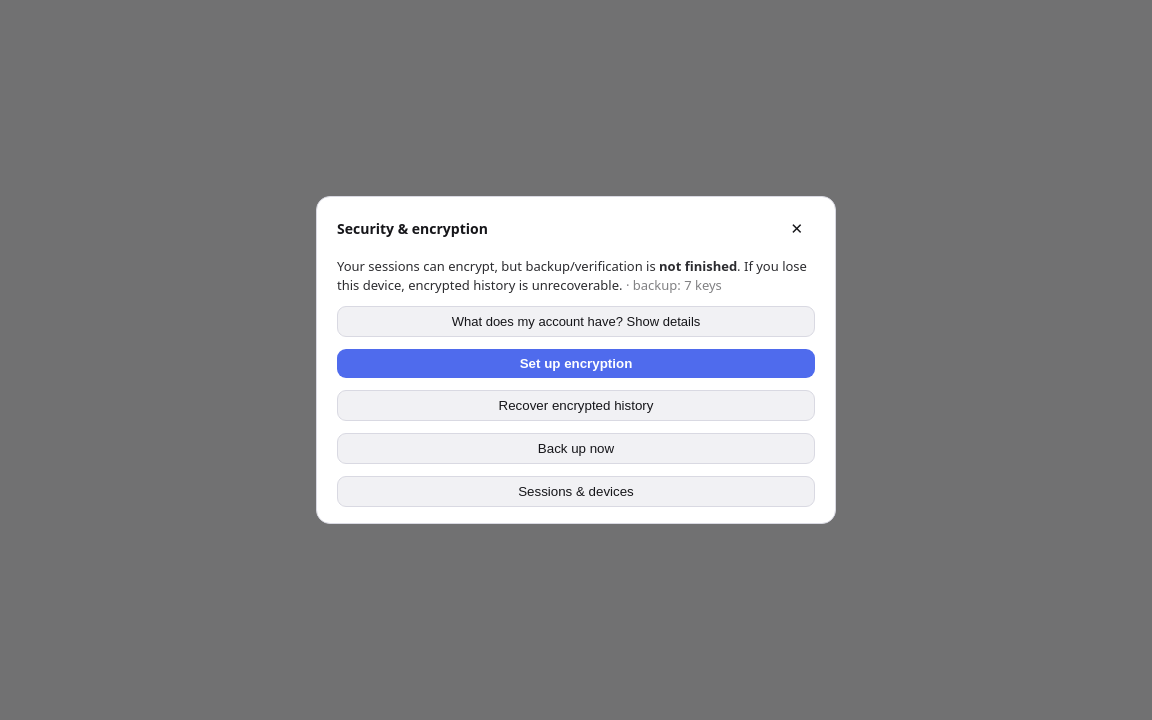
W5a SecuritySheet › sessions list: verified tags, verify button drives SAS to done
Click the button with test id "start-sessions". click: point(576, 492)
box: [337,476,815,507]
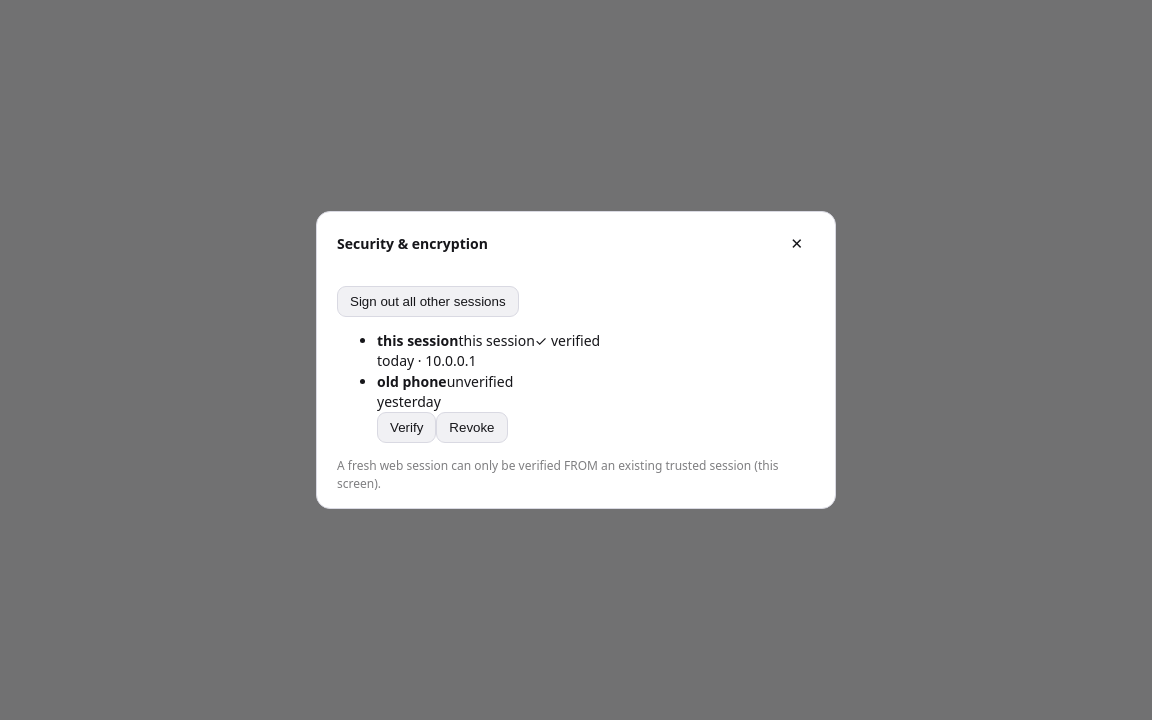
Expected: the list item with test id "session-OLD" shows "unverified", [447,372,513,391]
Expected: the list item with test id "session-CUR" shows "✓ verified", [535,331,600,350]
Click the button with test id "verify-OLD". click: point(407, 428)
box: [377,412,436,443]
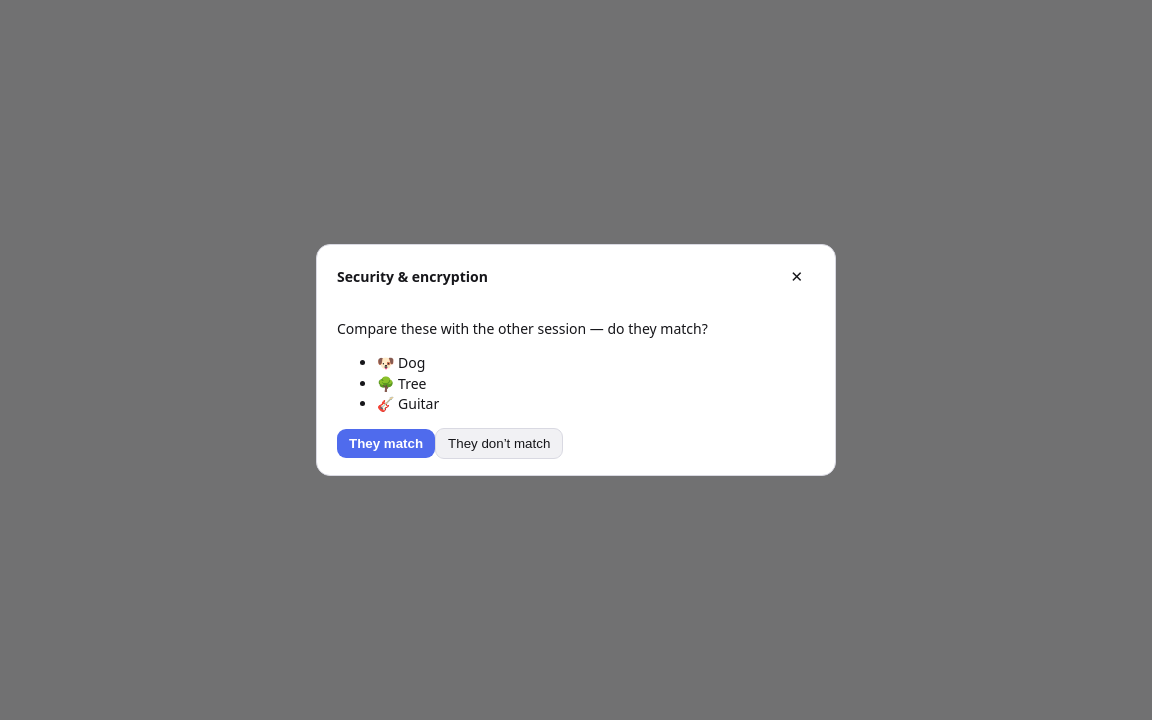
Expected: the list with test id "sas-entries" is shown, [377,353,439,413]
Expected: the number of list items is 3, [377,353,425,372]; [377,374,426,392]; [377,394,439,413]
Click the button with test id "sas-match". click: point(386, 444)
box: [337,429,435,458]
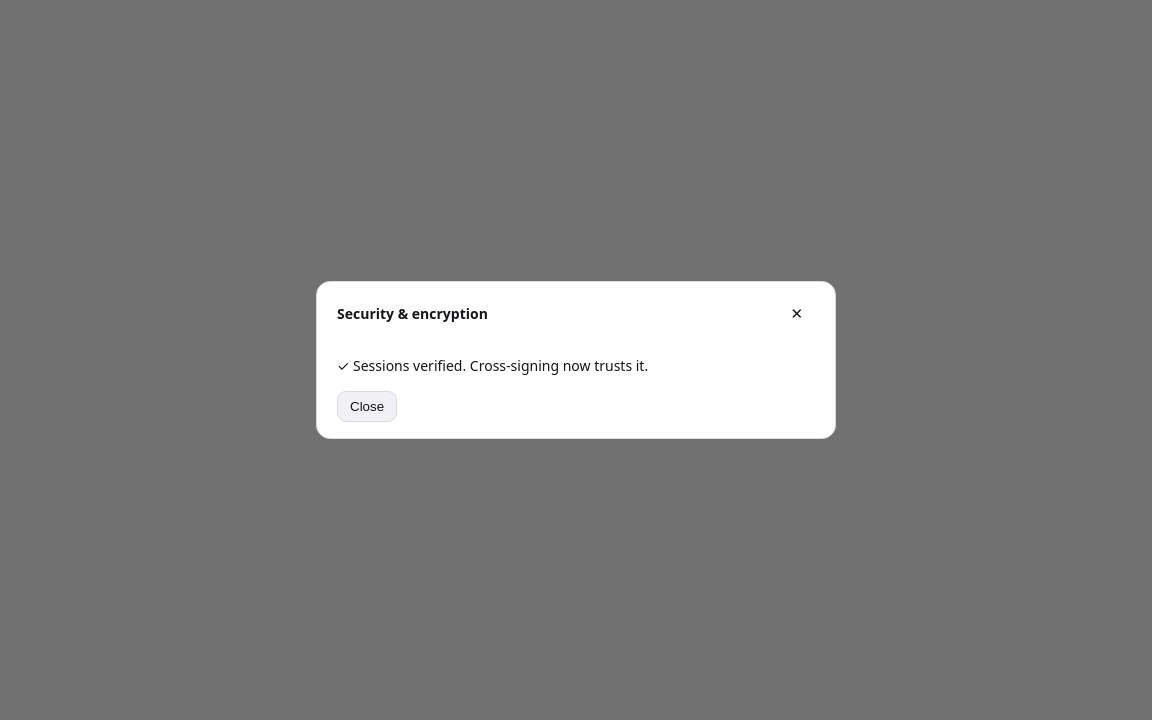
Expected: the text "✓ Sessions verified. Cross-signing now trusts it." is shown, [337,356,648,375]
